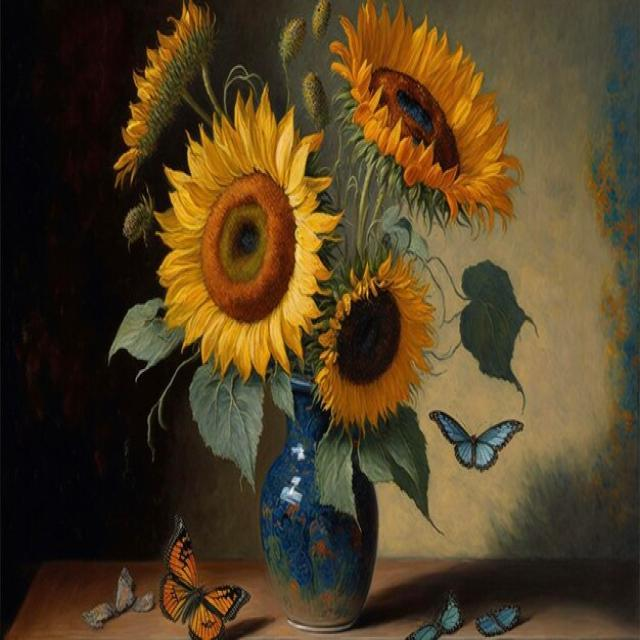sunflower: (152, 81, 344, 383), (328, 0, 523, 234), (313, 248, 437, 436), (112, 0, 218, 186)
